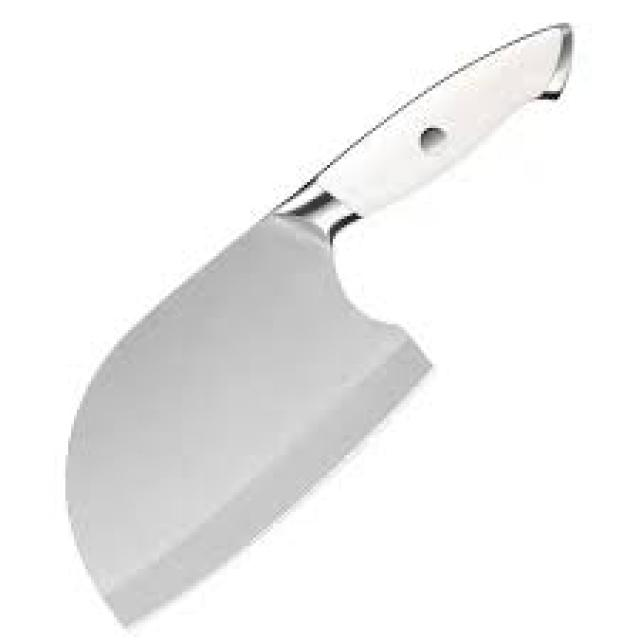Knife: (62, 20, 572, 626)
